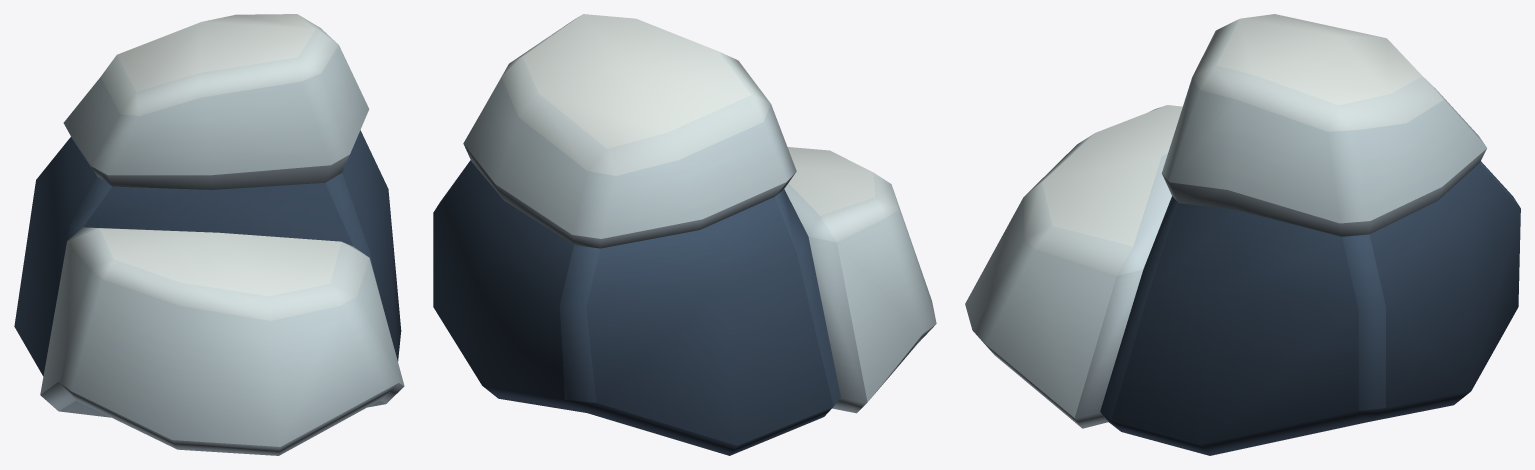
Rendered from rock_snow_05.fbx.
The picture shows the model from 3 angles, left to right: view 1: azimuth 30°, elevation 25°; view 2: azimuth 150°, elevation 25°; view 3: azimuth 270°, elevation 25°; orthographic projection. The views are drawn at different scales.
Visible parts, largest first — view 1: rock_snow_05; view 2: rock_snow_05; view 3: rock_snow_05.
Part boxes in pixels (x1,y1,x2,y2): rock_snow_05: (14,14,404,455); rock_snow_05: (433,14,936,455); rock_snow_05: (965,14,1520,455).
Size of the model in its own units: 122 by 105 by 138.
1 material, 1 textured.
